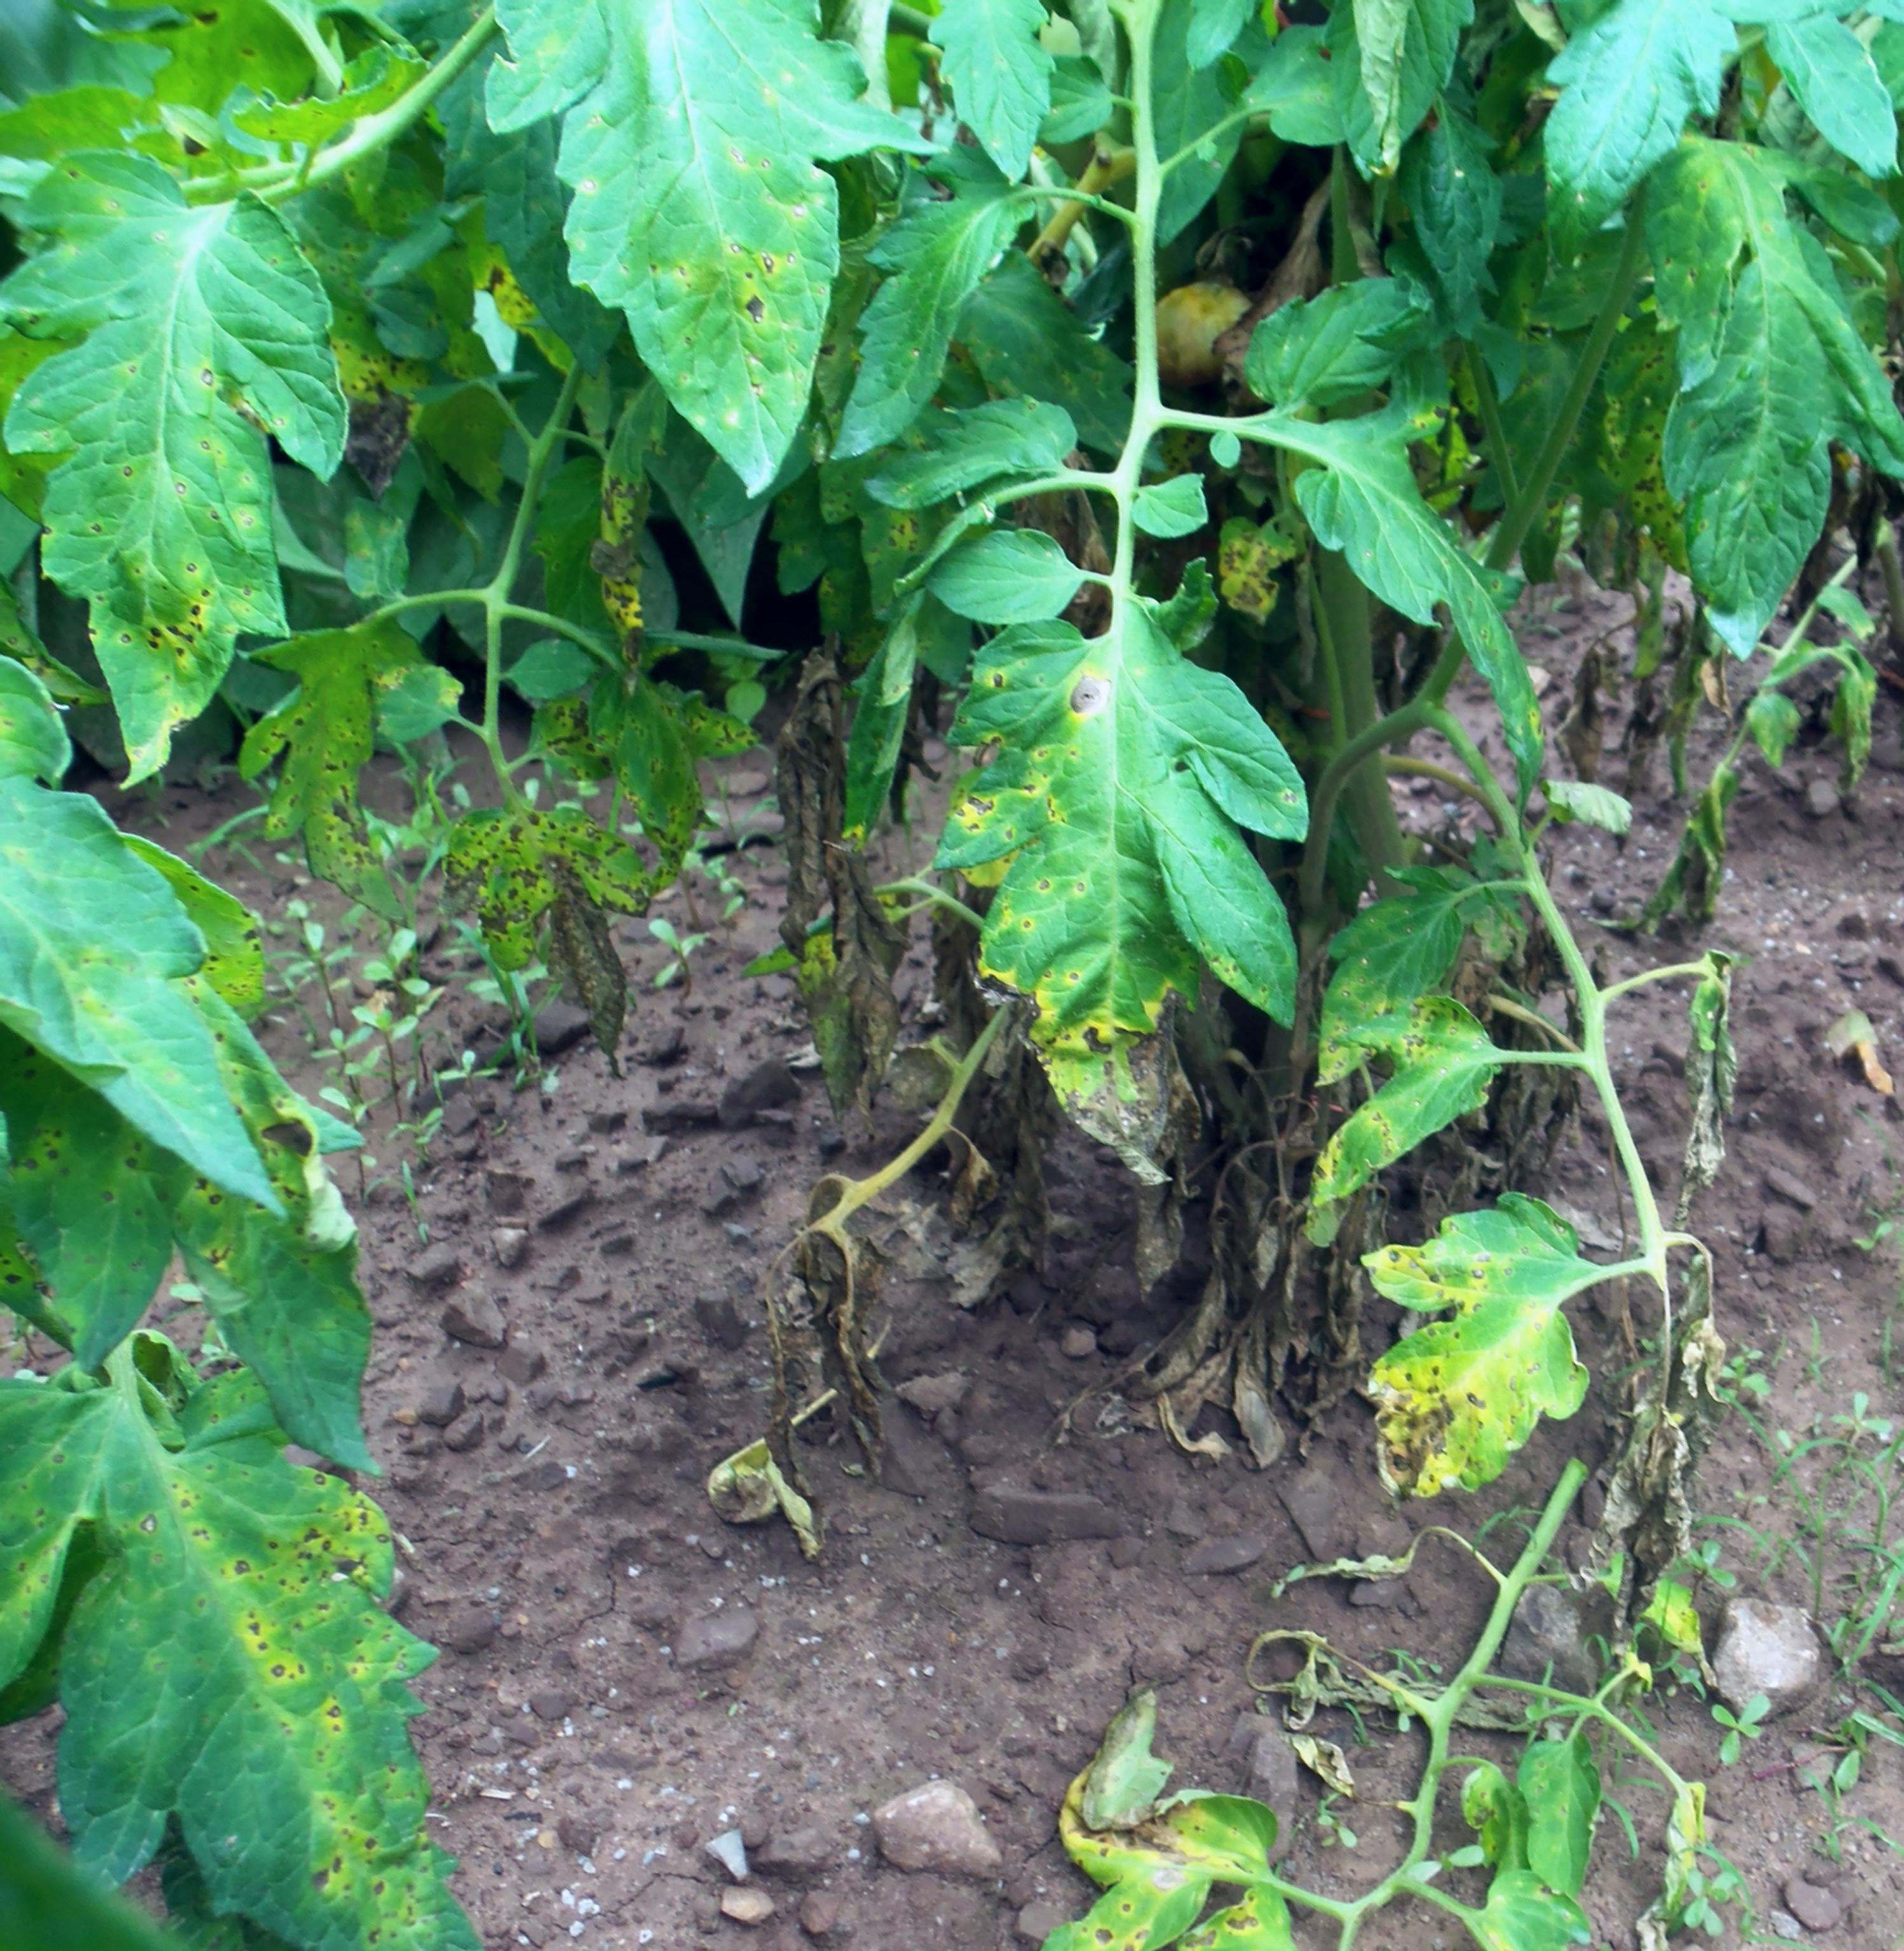Tomato Septoria leaf spot: (66, 1343, 490, 1951), (2, 188, 373, 799), (928, 579, 1302, 1163), (490, 17, 889, 532), (1348, 1182, 1620, 1510), (1308, 1020, 1498, 1203)
